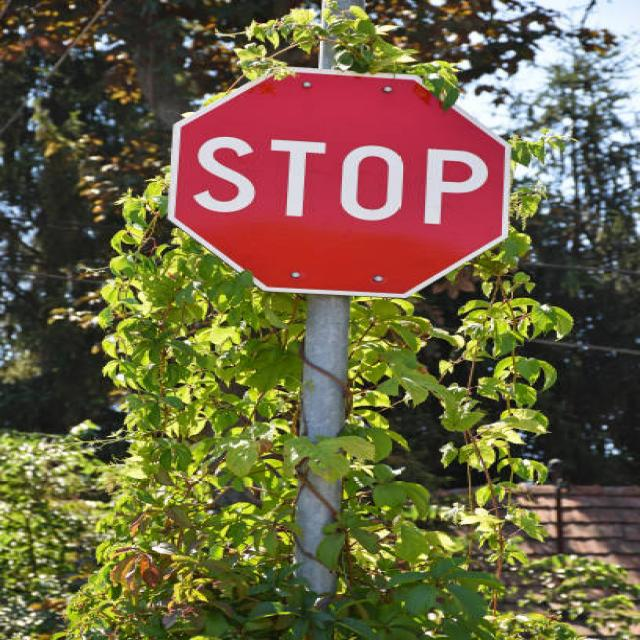stop: (150, 59, 520, 300)
